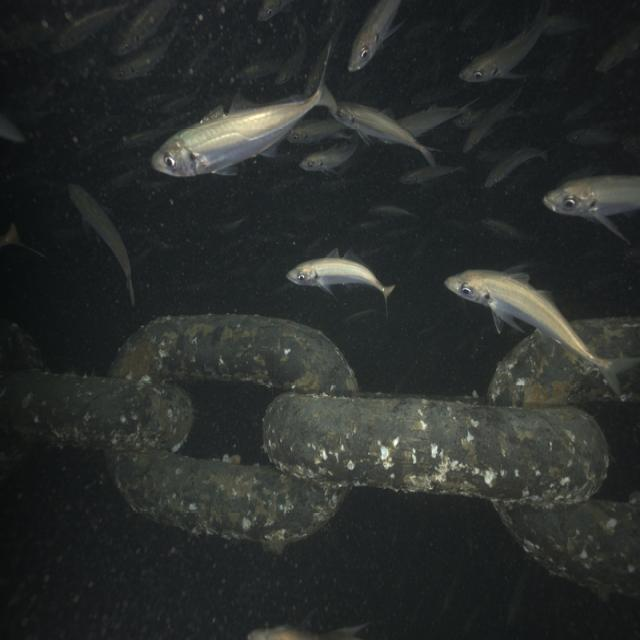ChainLink: (264, 395, 609, 503), (106, 455, 346, 553), (110, 315, 359, 396), (0, 373, 192, 450), (494, 499, 640, 597), (488, 332, 640, 406), (571, 318, 640, 358), (1, 320, 44, 375), (0, 429, 32, 479)
